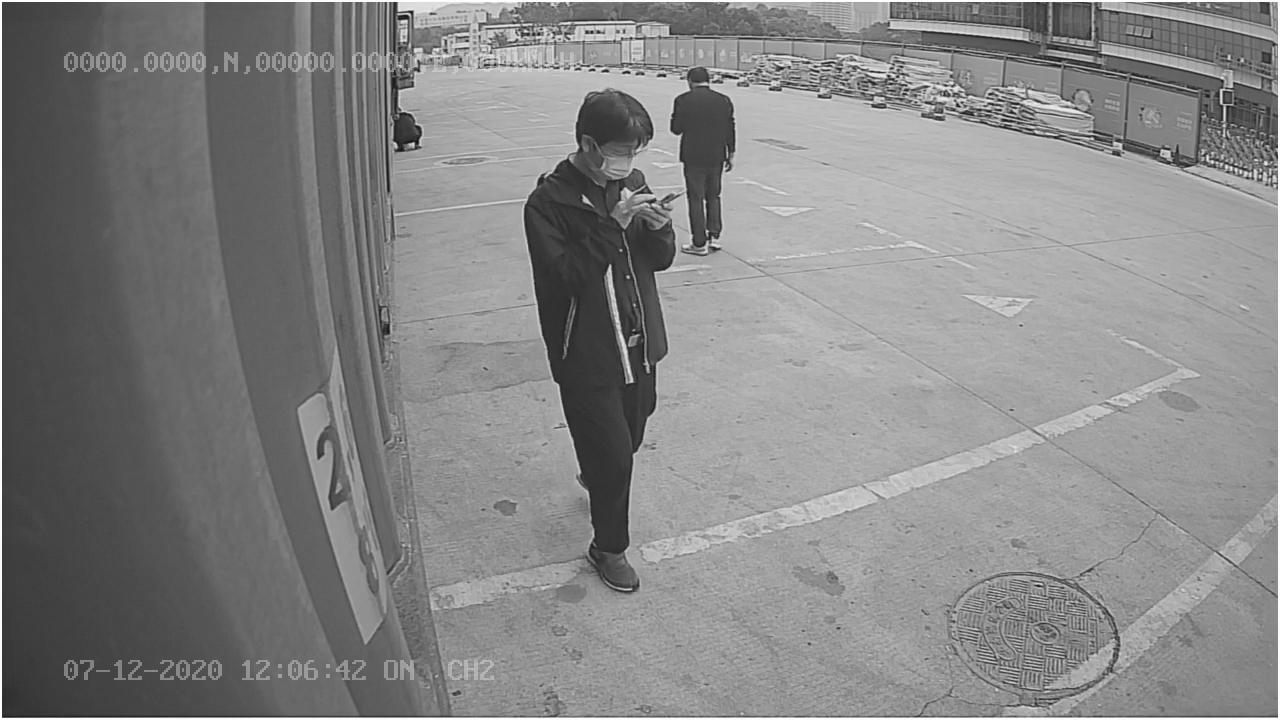person: (519, 84, 680, 595)
